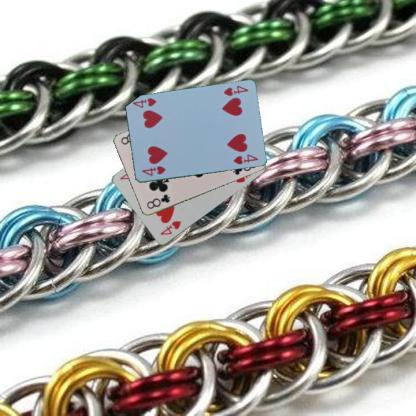4h: (158, 218, 182, 237), (221, 83, 249, 98), (139, 164, 167, 178)
8c: (144, 192, 171, 210)
